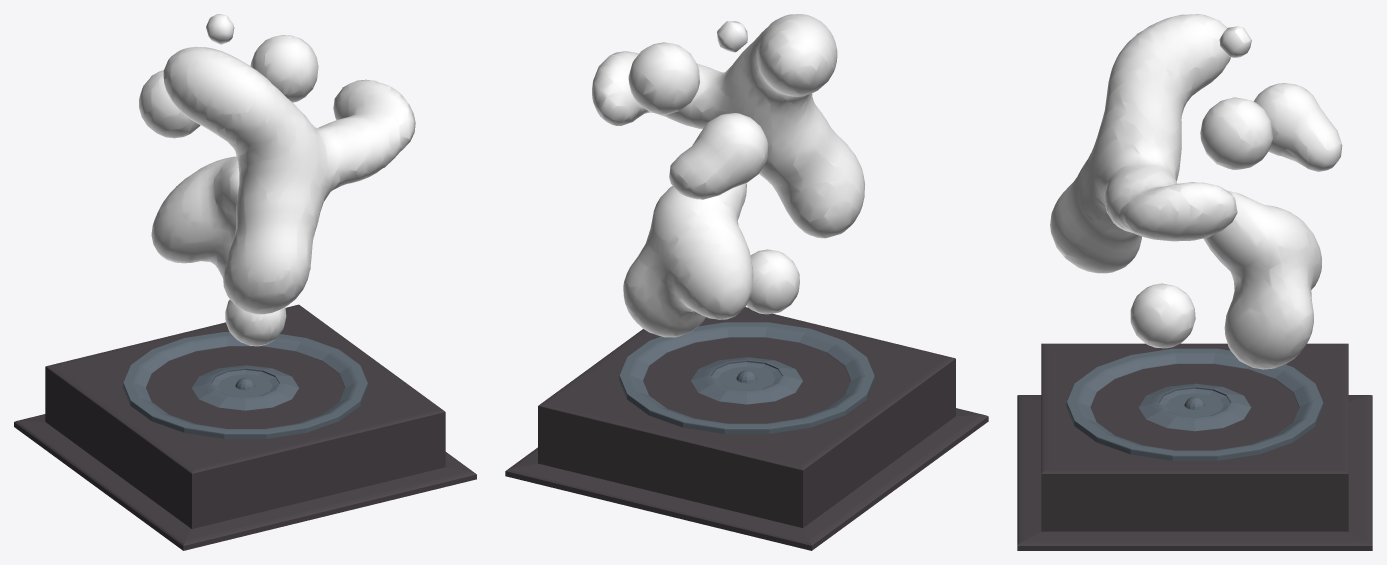
File: flux-specimen-1.glb
3 views of the same model, side by side, from view 1: azimuth 30°, elevation 25°; view 2: azimuth 150°, elevation 25°; view 3: azimuth 270°, elevation 25° (orthographic). The views are drawn at different scales.
Visible parts, largest first — view 1: Cube.003, Mball.029, Cylinder.001, Cylinder; view 2: Cube.003, Mball.029, Cylinder.001, Cylinder; view 3: Cube.003, Mball.029, Cylinder.001, Cylinder.
Boxes of the visible parts, x1,y1,x2,y2 form: Cube.003: [14, 304, 476, 550]; Mball.029: [139, 14, 415, 346]; Cylinder.001: [123, 332, 367, 438]; Cylinder: [192, 365, 298, 410]; Cube.003: [505, 307, 988, 550]; Mball.029: [592, 14, 864, 337]; Cylinder.001: [619, 322, 874, 433]; Cylinder: [691, 357, 802, 404]; Cube.003: [1017, 343, 1372, 550]; Mball.029: [1050, 14, 1342, 369]; Cylinder.001: [1066, 348, 1323, 460]; Cylinder: [1138, 383, 1251, 431].
Size of the model in its own units: 2.25 by 3.09 by 2.24.
